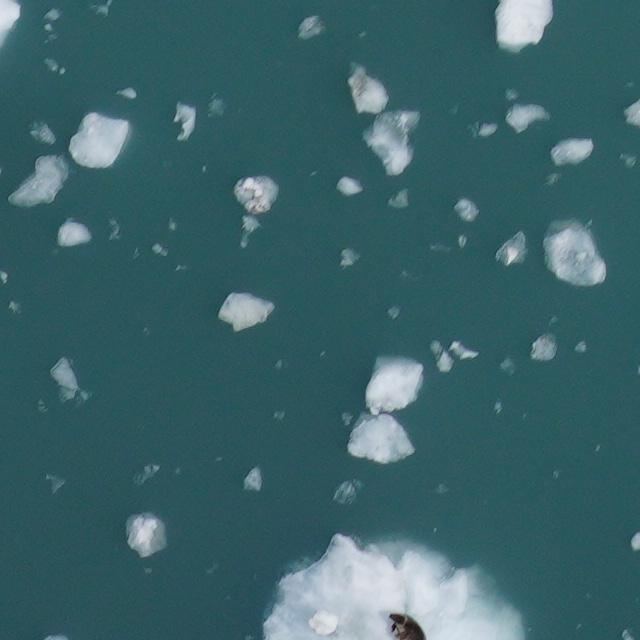seal: (387, 612, 427, 639)
